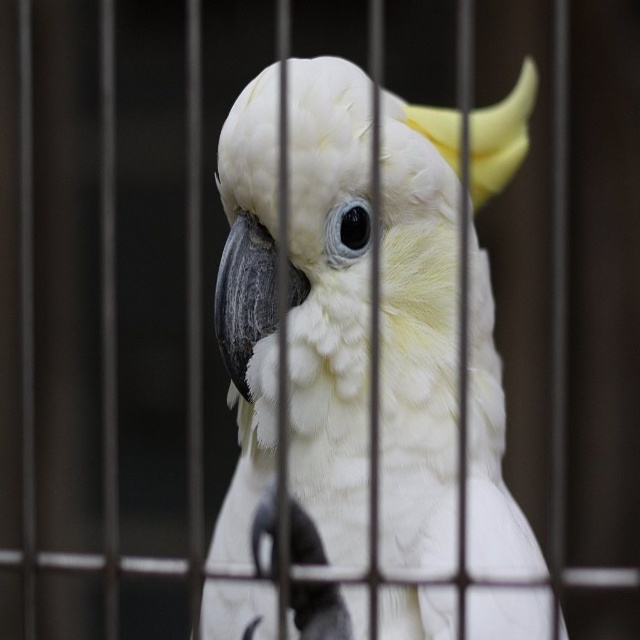Parrot: (190, 52, 569, 631)
